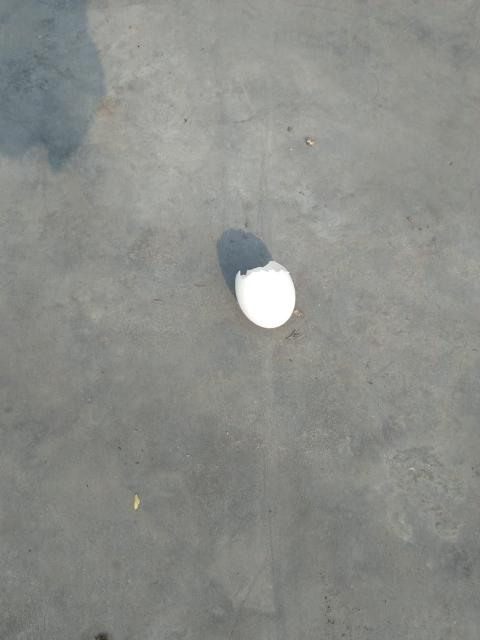Roto: (233, 260, 296, 329)
